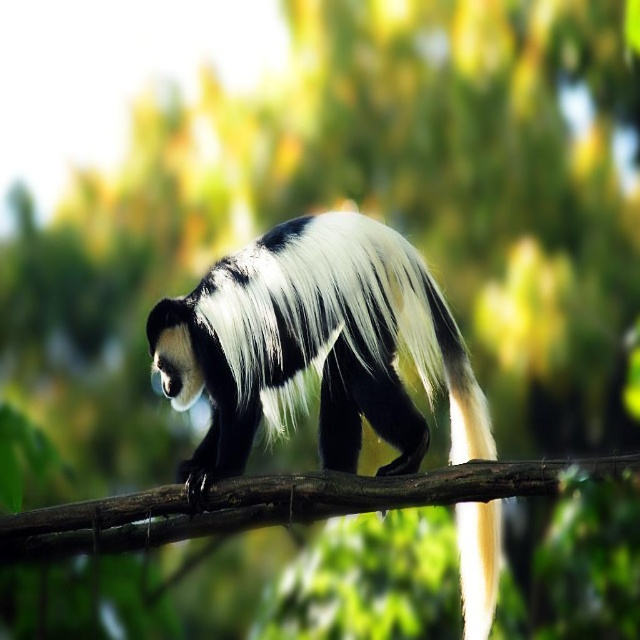Monkey: (171, 213, 504, 569)
